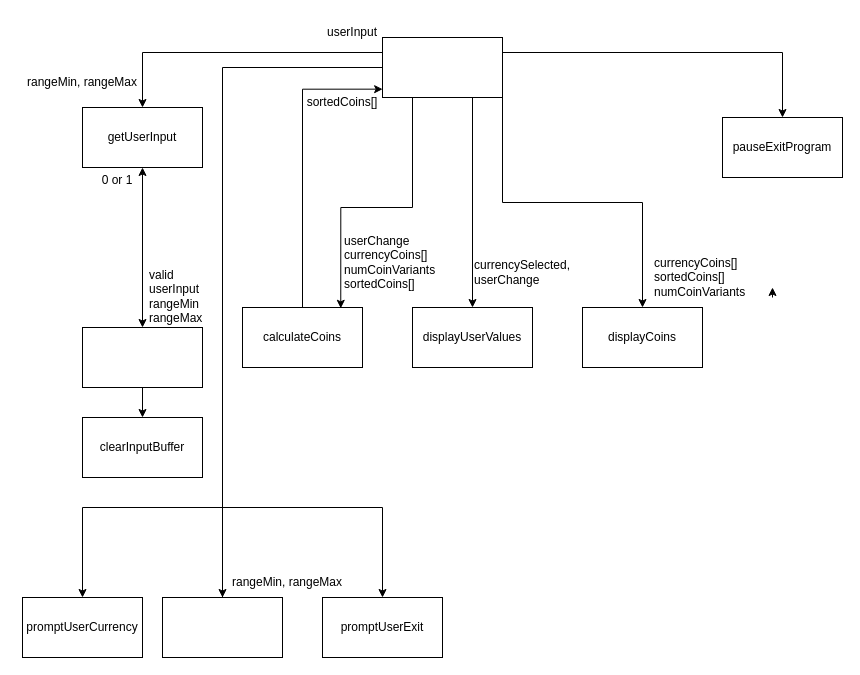
Image size: 860x675. Some labels were removed from this diagram. The box of each missing label's shape, as (x1, y1, x2, y2) in pixels:
MAIN: (382, 36, 502, 98)
promptUserChange: (162, 596, 282, 658)
validateUserInput: (82, 326, 202, 388)
